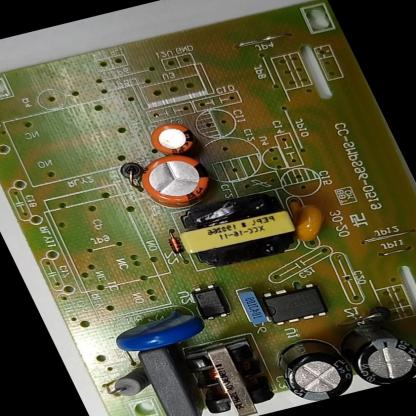Cap1: (124, 146, 228, 216)
Cap2: (136, 113, 210, 162)
Cap3: (264, 331, 362, 407)
Cap4: (331, 315, 415, 391)
MOSFET: (254, 275, 338, 331)
Mov: (103, 304, 216, 361)
Resistor: (98, 364, 162, 405)
Transformer: (166, 187, 312, 275), (172, 332, 285, 416)
